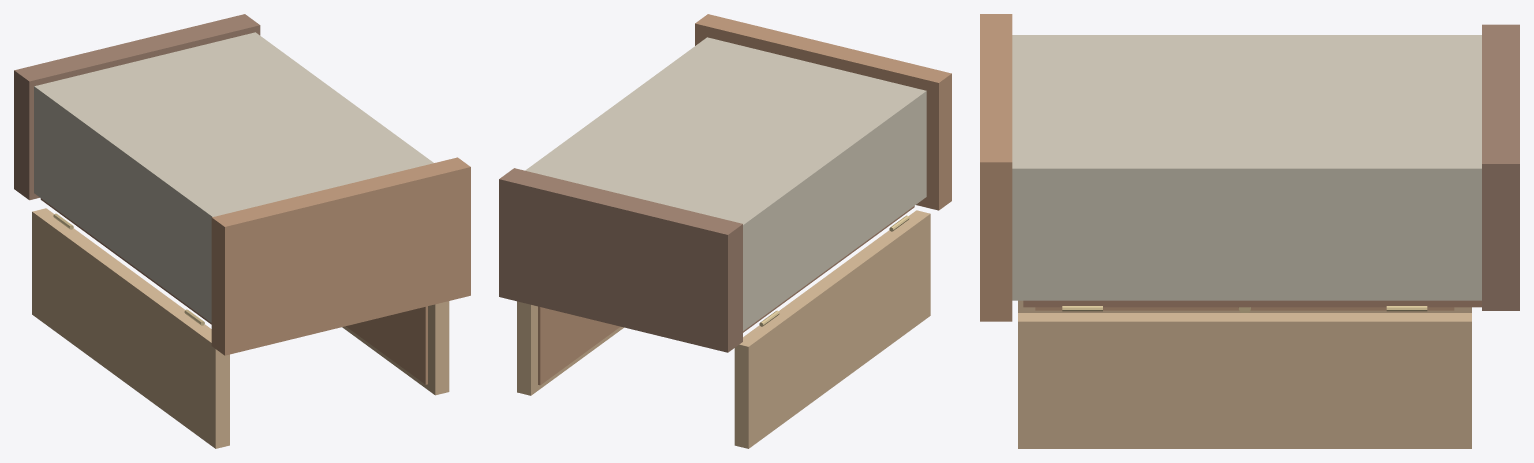
File: 12_supply_cabinet_open.glb
3 views of the same model, side by side, from view 1: azimuth 30°, elevation 25°; view 2: azimuth 150°, elevation 25°; view 3: azimuth 270°, elevation 25° (orthographic). The views are drawn at different scales.
Parts seen in each view (by area): view 1: cabinet_shell_0001, thick_top_cap_0006, open_door_panel_0017, bottom_plinth_0007, open_door_stile_0025, open_door_panel_0024; view 2: cabinet_shell_0001, bottom_plinth_0007, open_door_panel_0017, thick_top_cap_0006, open_door_stile_0025, open_door_panel_0024; view 3: cabinet_shell_0001, open_door_panel_0024, bottom_plinth_0007, thick_top_cap_0006, cabinet_side_trim_0009, open_door_panel_0017, open_door_stile_0018.
Boxes of the visible parts, x1,y1,x2,y2 form: cabinet_shell_0001: [34, 32, 433, 322]; thick_top_cap_0006: [211, 157, 470, 355]; open_door_panel_0017: [32, 208, 229, 448]; bottom_plinth_0007: [14, 14, 260, 200]; open_door_stile_0025: [346, 306, 427, 384]; open_door_panel_0024: [342, 301, 449, 395]; cabinet_shell_0001: [525, 37, 926, 330]; bottom_plinth_0007: [499, 168, 742, 352]; open_door_panel_0017: [734, 210, 930, 448]; thick_top_cap_0006: [695, 14, 951, 210]; open_door_stile_0025: [538, 306, 619, 385]; open_door_panel_0024: [517, 301, 623, 395]; cabinet_shell_0001: [1012, 35, 1481, 300]; open_door_panel_0024: [1018, 313, 1471, 448]; bottom_plinth_0007: [1482, 24, 1519, 310]; thick_top_cap_0006: [980, 14, 1012, 321]; cabinet_side_trim_0009: [1023, 300, 1481, 307]; open_door_panel_0017: [1018, 300, 1471, 312]; open_door_stile_0018: [1035, 307, 1454, 310].
Bounding box in the file's own units: 1.3 × 1.19 × 2.
